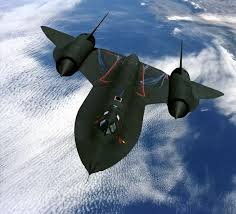fighter: (36, 13, 226, 185)
